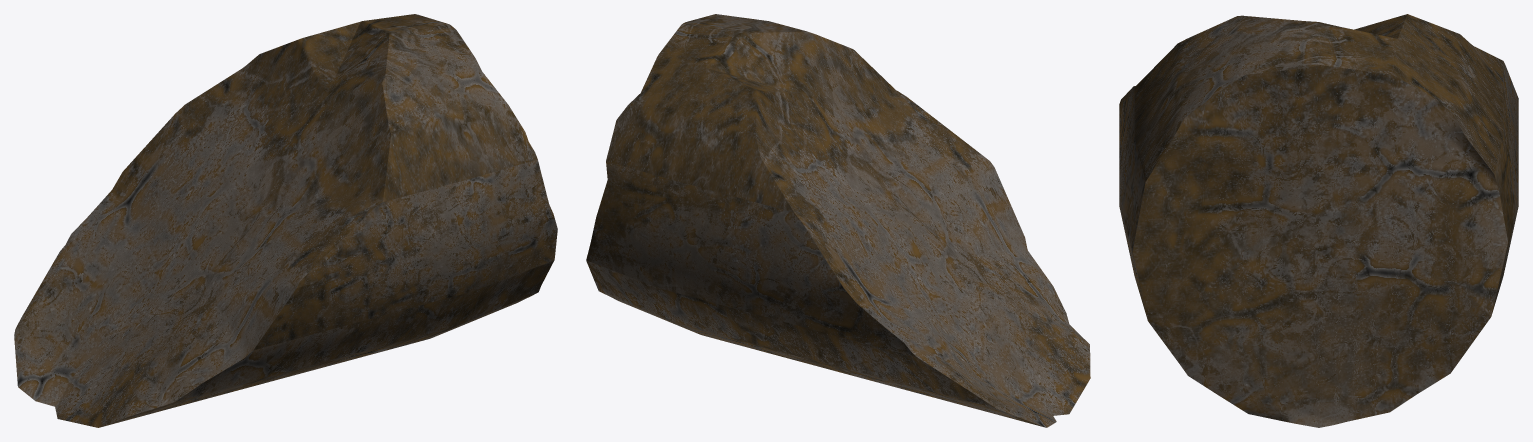
Rendered from RockShard10.fbx.
3 views of the same model, side by side, from view 1: azimuth 30°, elevation 25°; view 2: azimuth 150°, elevation 25°; view 3: azimuth 270°, elevation 25° (orthographic). The views are drawn at different scales.
Parts seen in each view (by area): view 1: RockShard10; view 2: RockShard10; view 3: RockShard10.
Part boxes in pixels (x1=…): RockShard10: x1=14, y1=14, x2=557, y2=427; RockShard10: x1=586, y1=14, x2=1090, y2=427; RockShard10: x1=1119, y1=14, x2=1518, y2=427.
Size of the model in its own units: 111 by 72.32 by 70.32.
